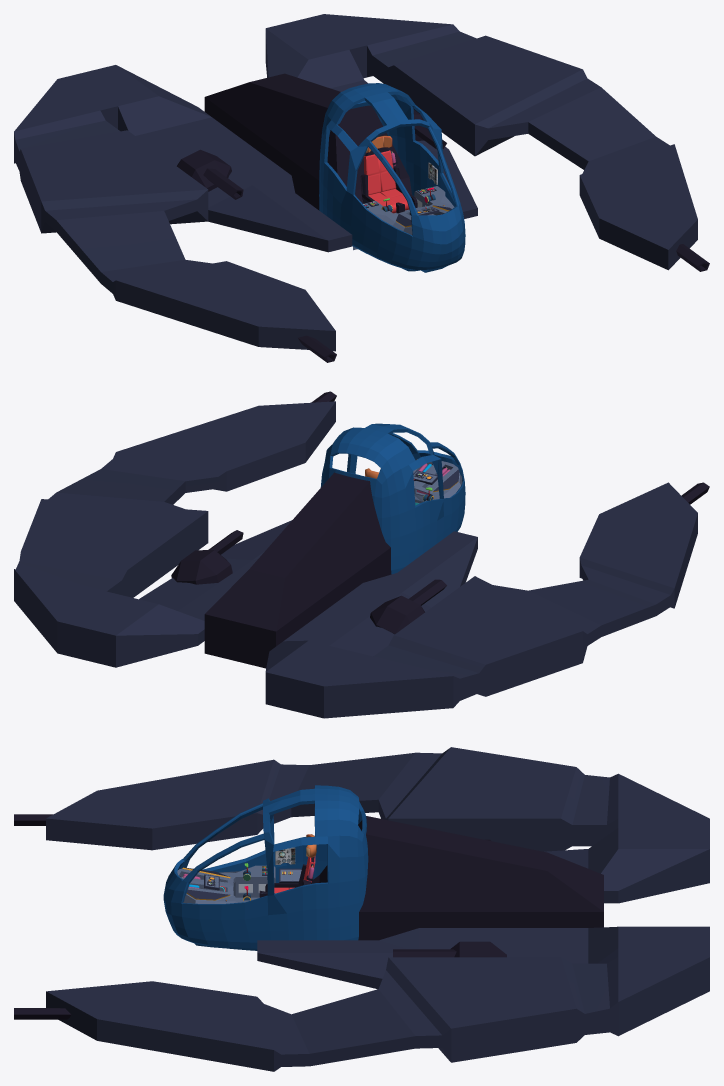
File: cockpit.glb
The picture shows the model from 3 angles, top to bottom: view 1: azimuth 30°, elevation 25°; view 2: azimuth 150°, elevation 25°; view 3: azimuth 270°, elevation 25°; orthographic projection. The views are drawn at different scales.
Parts seen in each view (by area): view 1: ship, Cube, Cube.001, Cube.004; view 2: ship, Cube, Cube.004; view 3: ship, Cube, Cube.004, Cube.001.
Part boxes in pixels (<box>): ship: <box>14,14,709,362</box>; Cube: <box>319,83,465,272</box>; Cube.001: <box>360,147,417,213</box>; Cube.004: <box>353,186,454,250</box>; ship: <box>14,391,709,718</box>; Cube: <box>320,423,465,574</box>; Cube.004: <box>413,459,462,505</box>; ship: <box>14,747,709,1071</box>; Cube: <box>163,785,368,950</box>; Cube.004: <box>177,865,275,903</box>; Cube.001: <box>259,856,315,897</box>.
Bounding box in the file's own units: 17.18 × 3.98 × 17.39.
14 materials, 5 textured.
